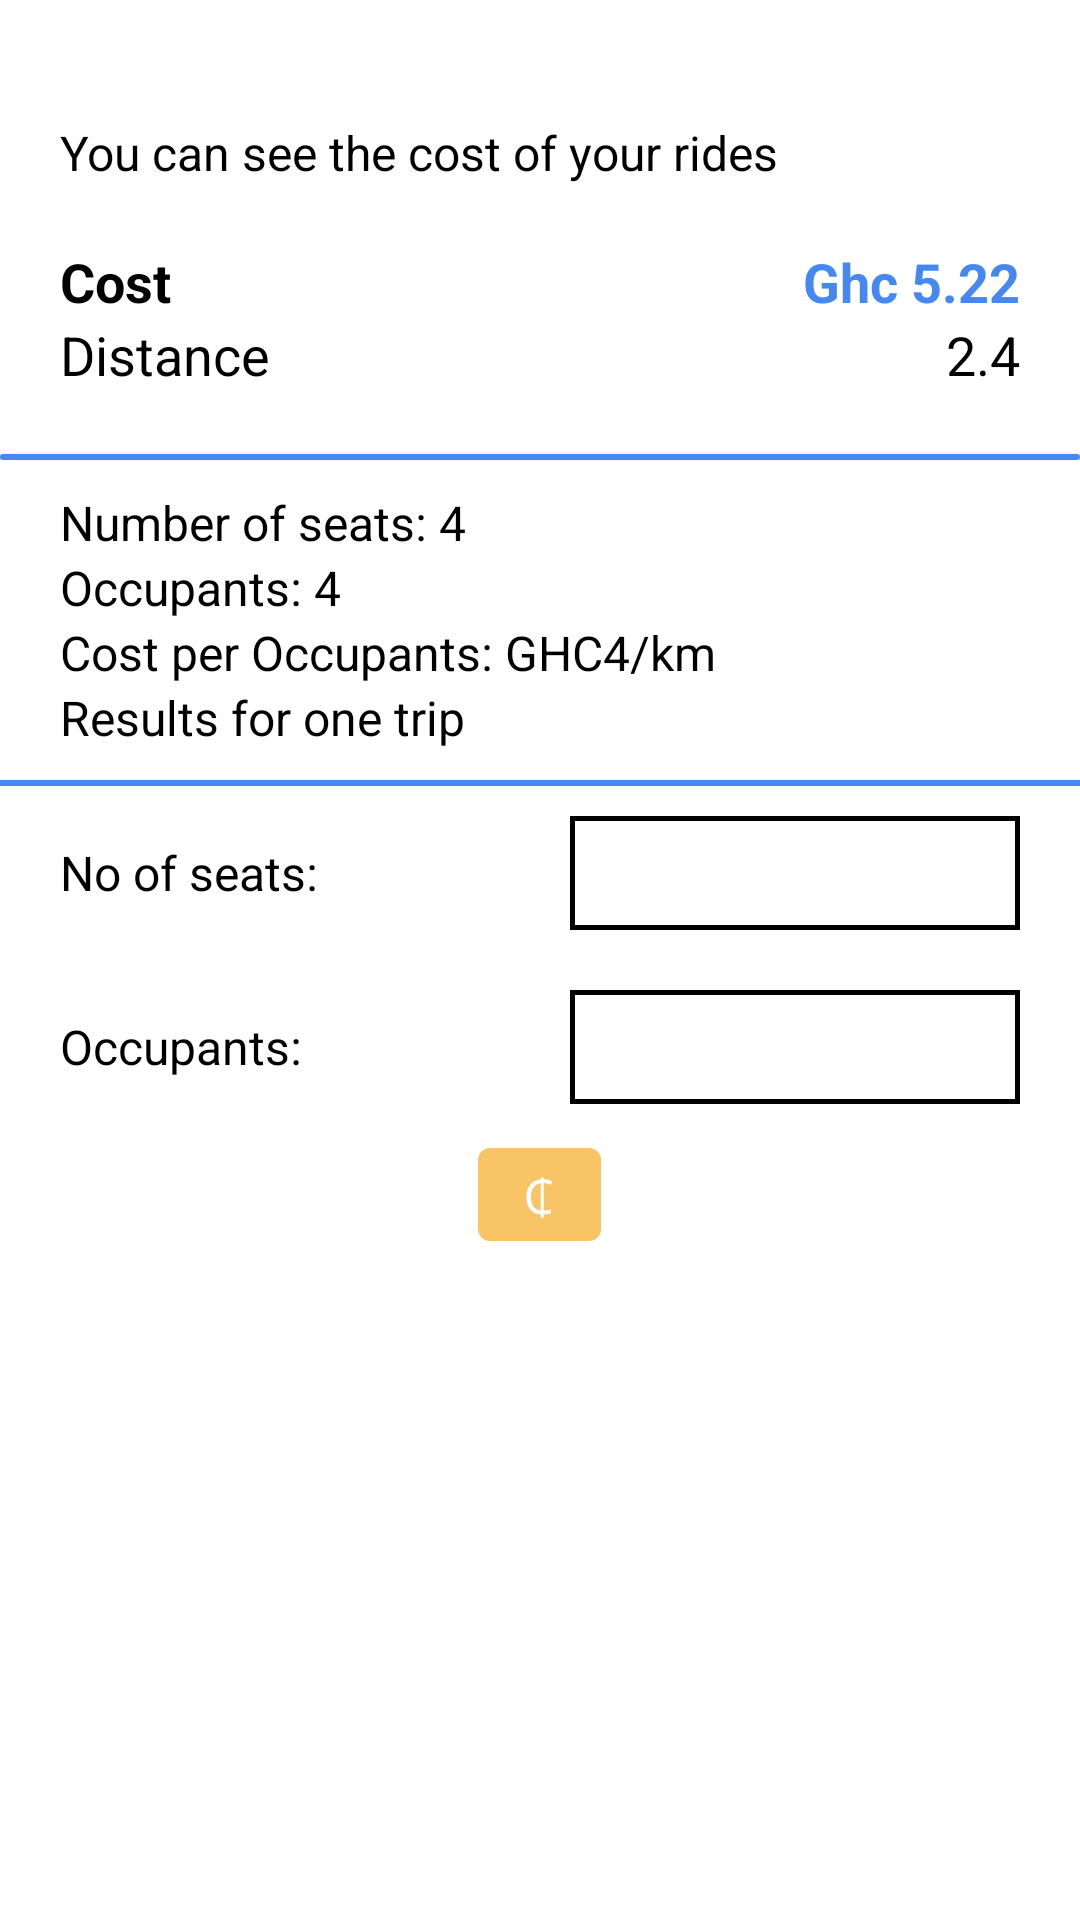

Named icons in this screenshot (1080 x 1920) and their bounding boxes, Rect(x1, y1, x2, y2):
currency: Rect(478, 1148, 601, 1241)
